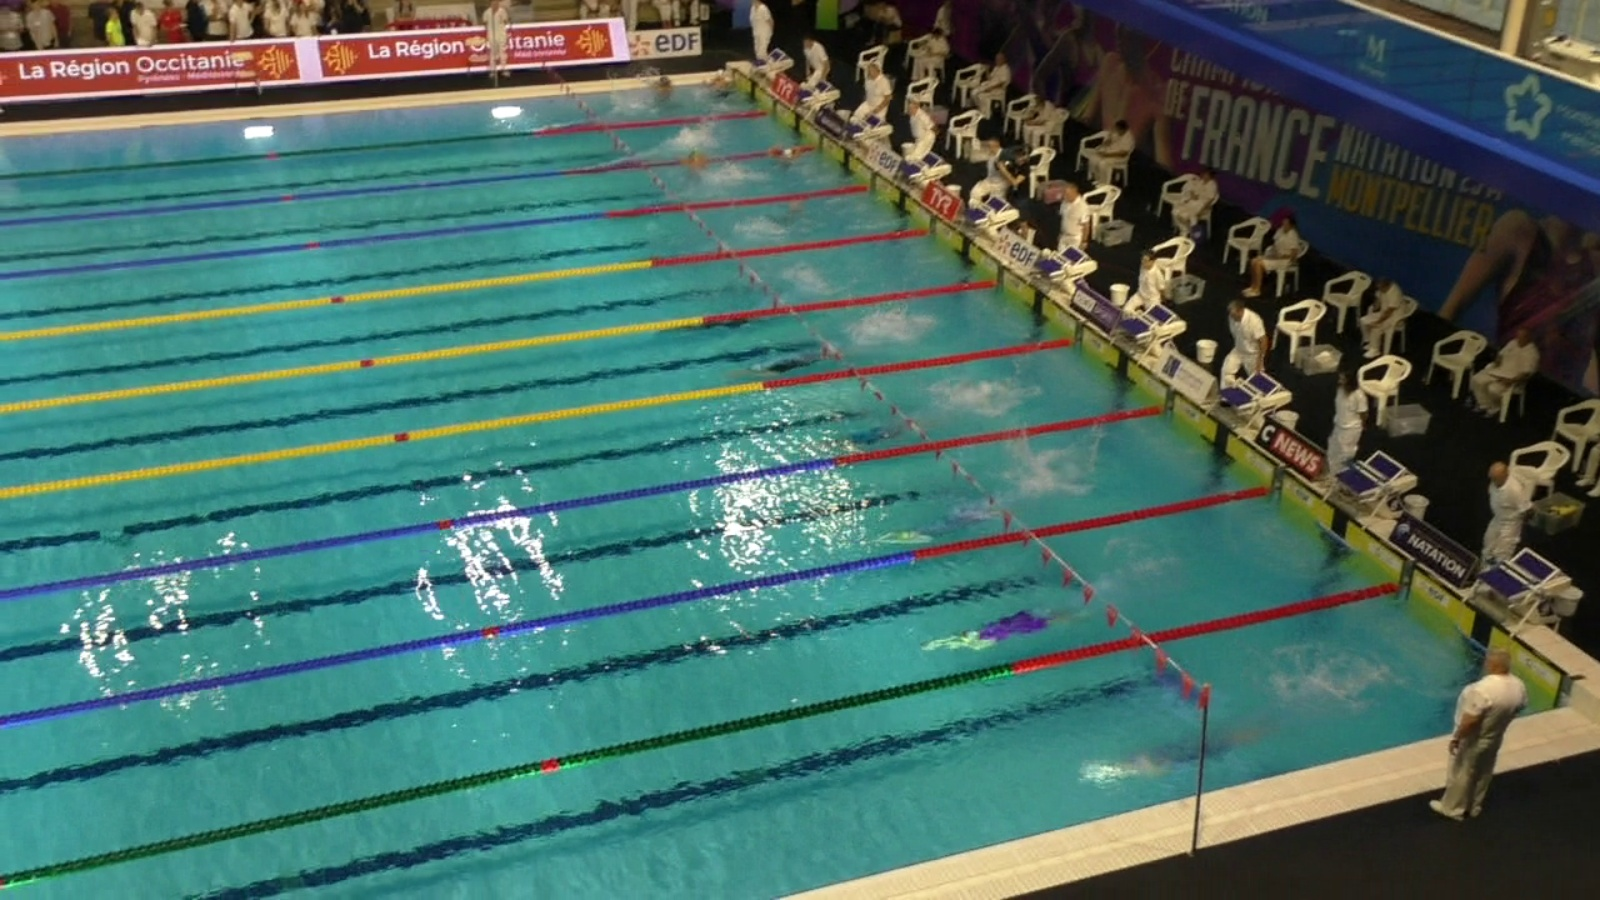swimmerwdd: (938, 599, 1107, 662), (1075, 727, 1286, 771), (895, 487, 1034, 549), (818, 416, 934, 455), (674, 305, 793, 340), (745, 351, 854, 380), (533, 111, 631, 135), (765, 189, 819, 227), (567, 155, 684, 173), (675, 151, 730, 187), (763, 144, 814, 176), (645, 73, 685, 112)
